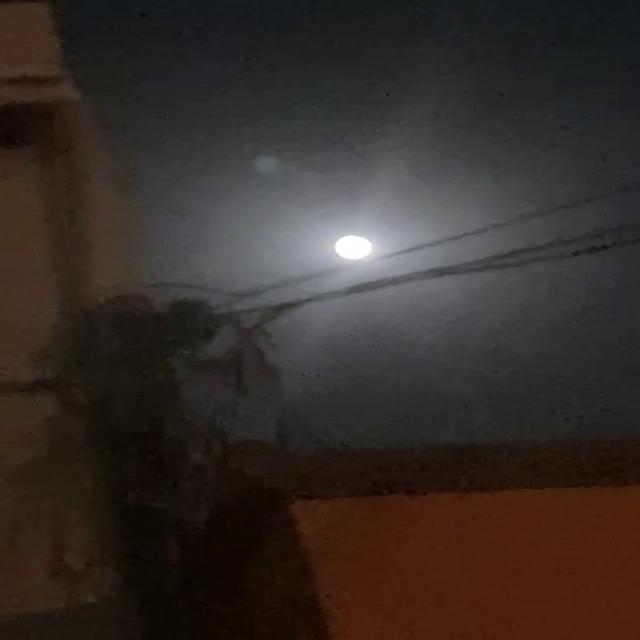moon: (312, 240, 376, 277)
